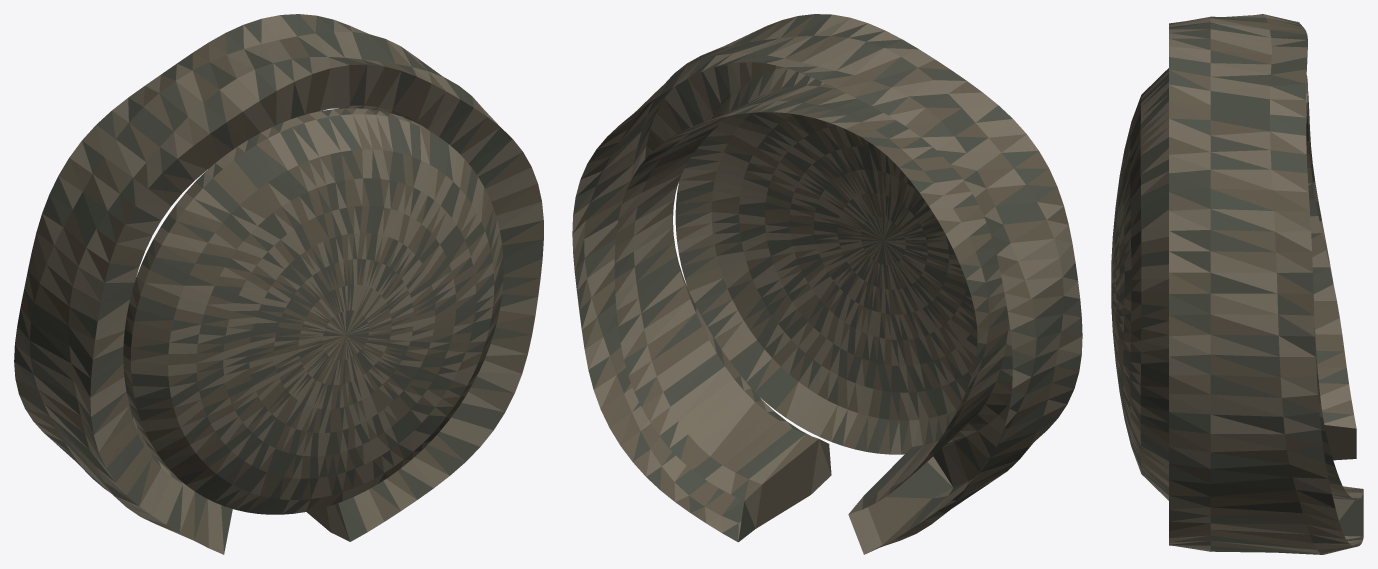
File: dead_end_pocket.obj
3 renders of one model, left to right at view 1: azimuth 30°, elevation 25°; view 2: azimuth 150°, elevation 25°; view 3: azimuth 270°, elevation 25°, orthographic. The views are drawn at different scales.
Parts seen in each view (by area): view 1: natural_rock_cave; view 2: natural_rock_cave; view 3: natural_rock_cave.
Boxes of the visible parts, bbox=[...] form: natural_rock_cave: bbox=[14, 14, 543, 554]; natural_rock_cave: bbox=[572, 14, 1082, 554]; natural_rock_cave: bbox=[1111, 14, 1363, 554].
Size of the model in its own units: 14.99 by 14.88 by 6.99.
